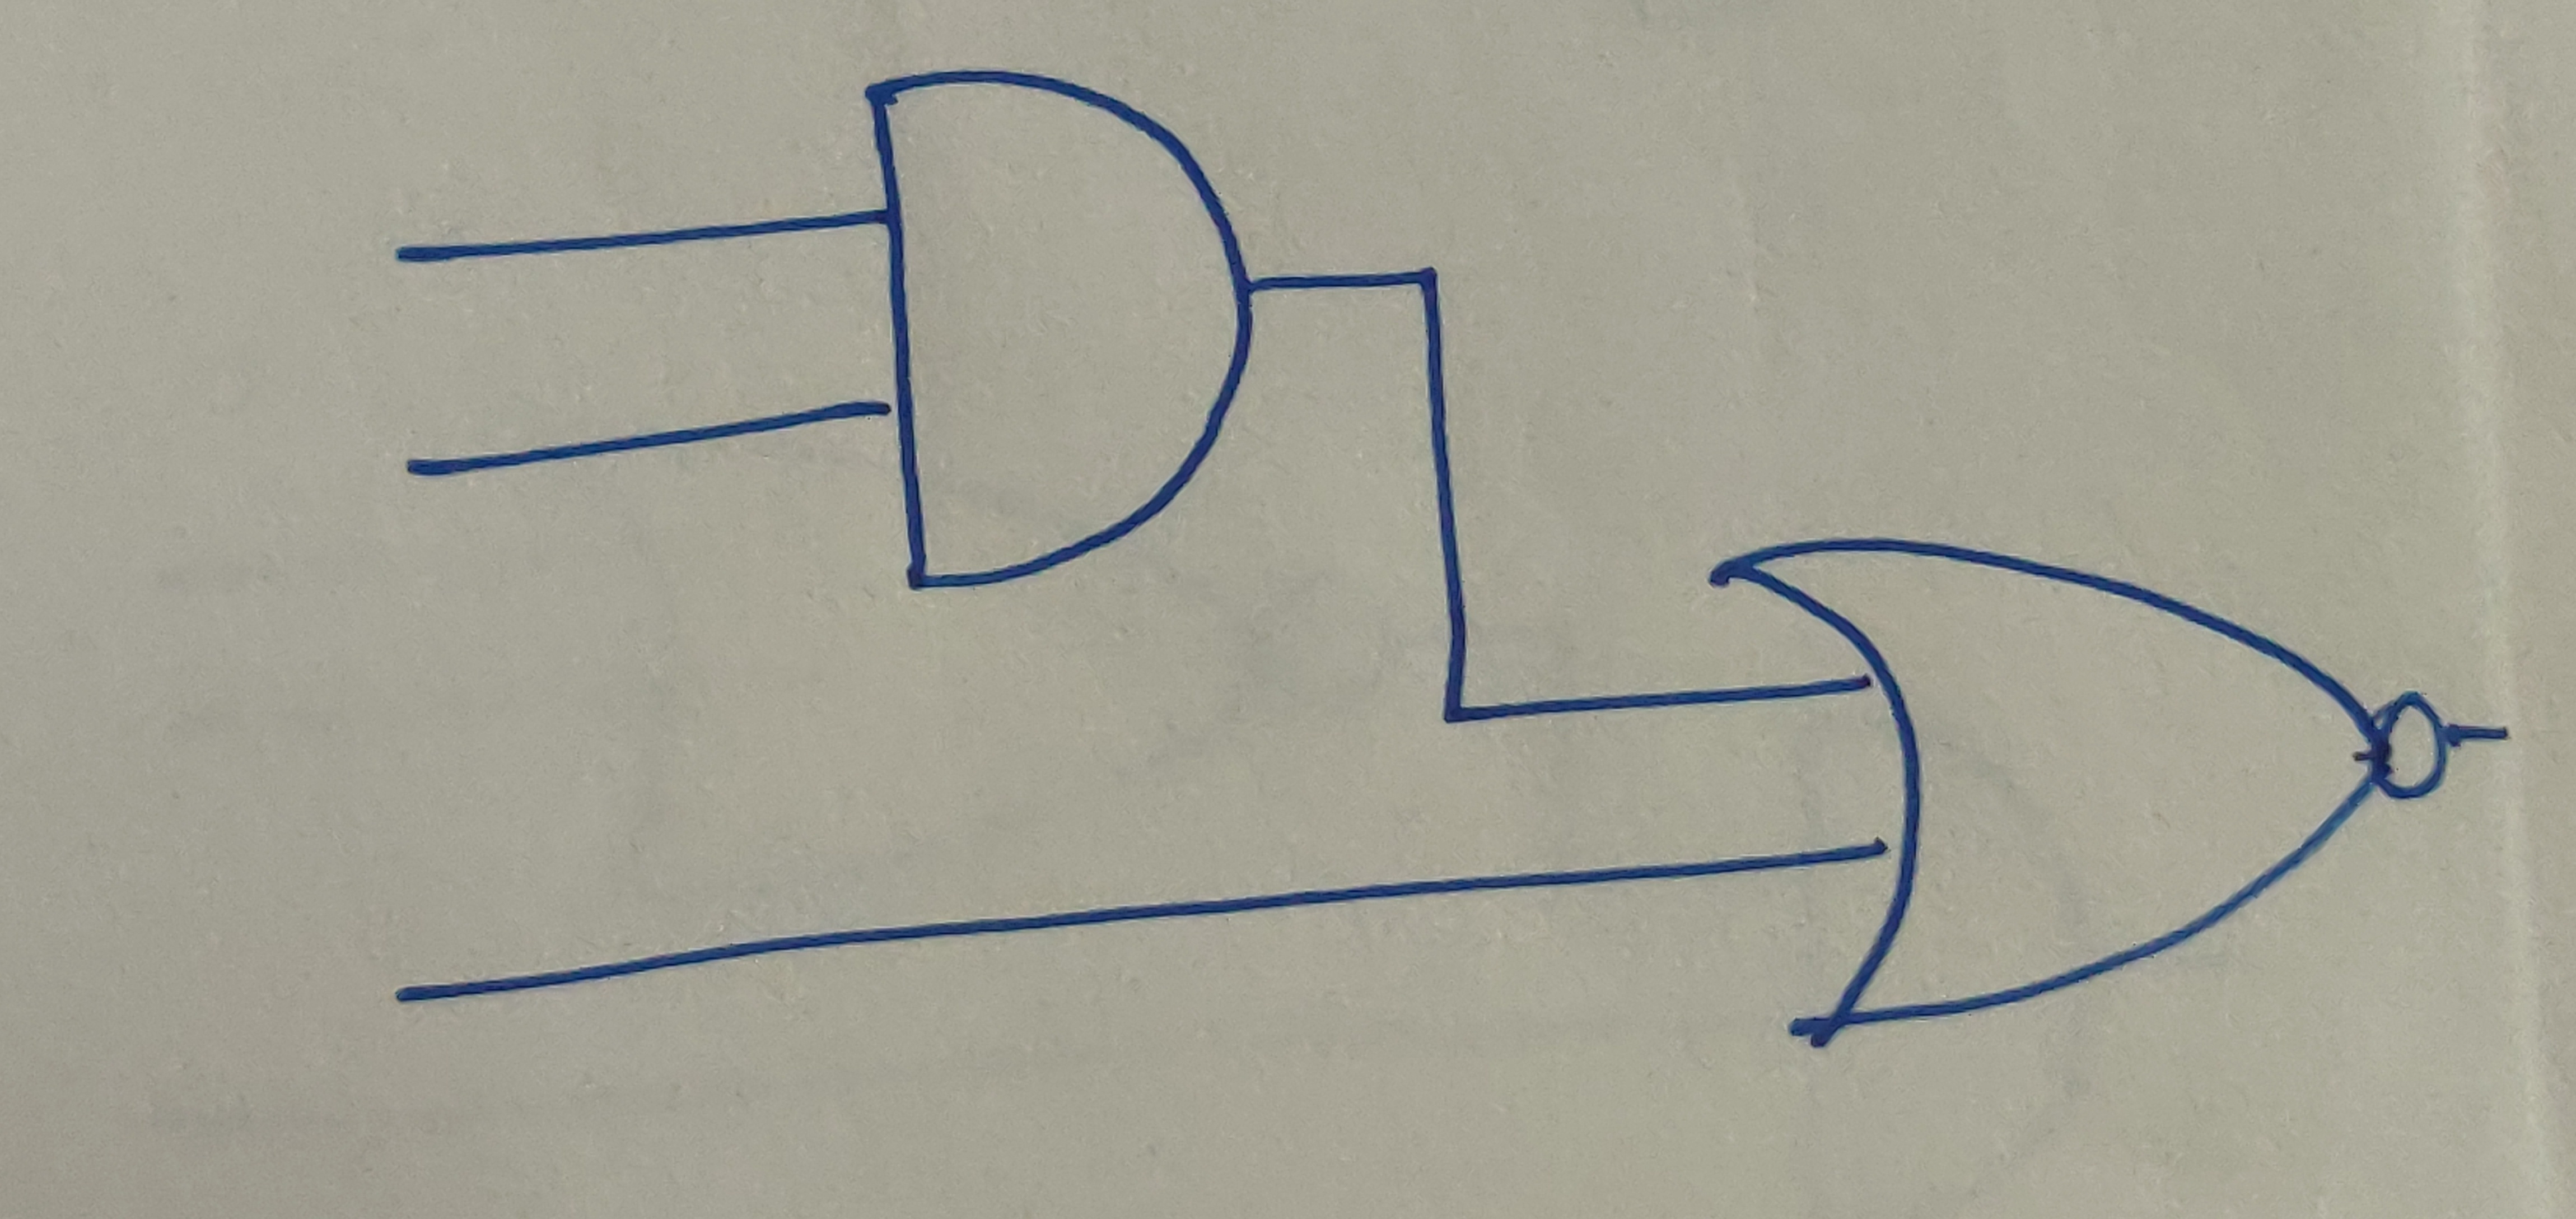and: (853, 69, 1262, 603)
not: (2372, 685, 2458, 807)
or: (1700, 537, 2387, 1042)
